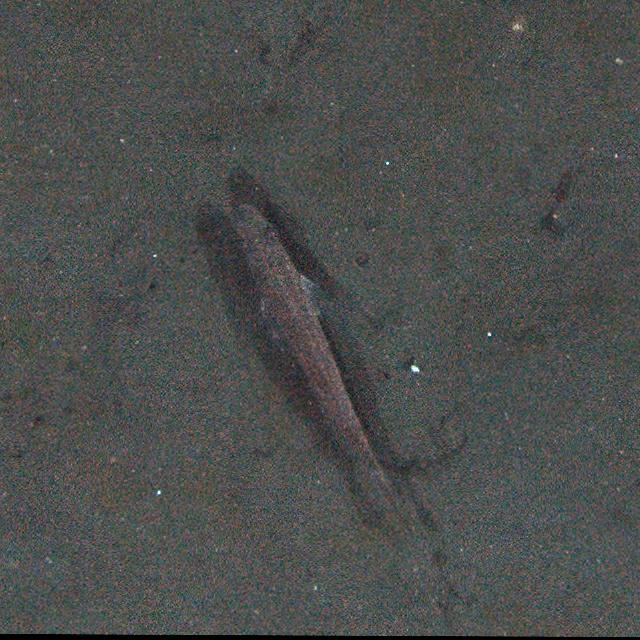roundfish: (227, 202, 421, 542)
